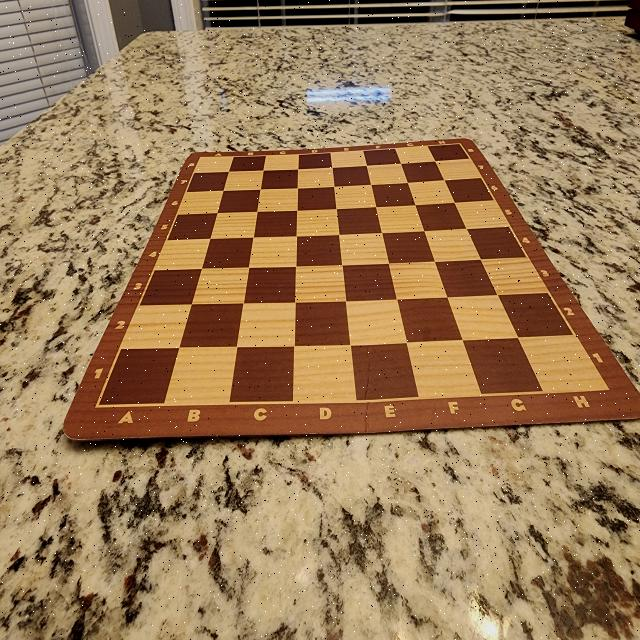Bottom-Left: (94, 348, 179, 408)
Bottom-Right: (518, 338, 608, 390)
Top-Left: (198, 157, 230, 171)
Top-Right: (434, 142, 460, 162)
